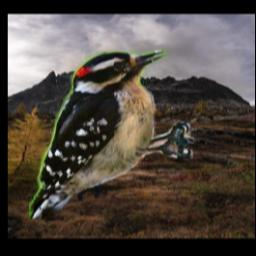Woodpecker: (28, 50, 193, 219)
